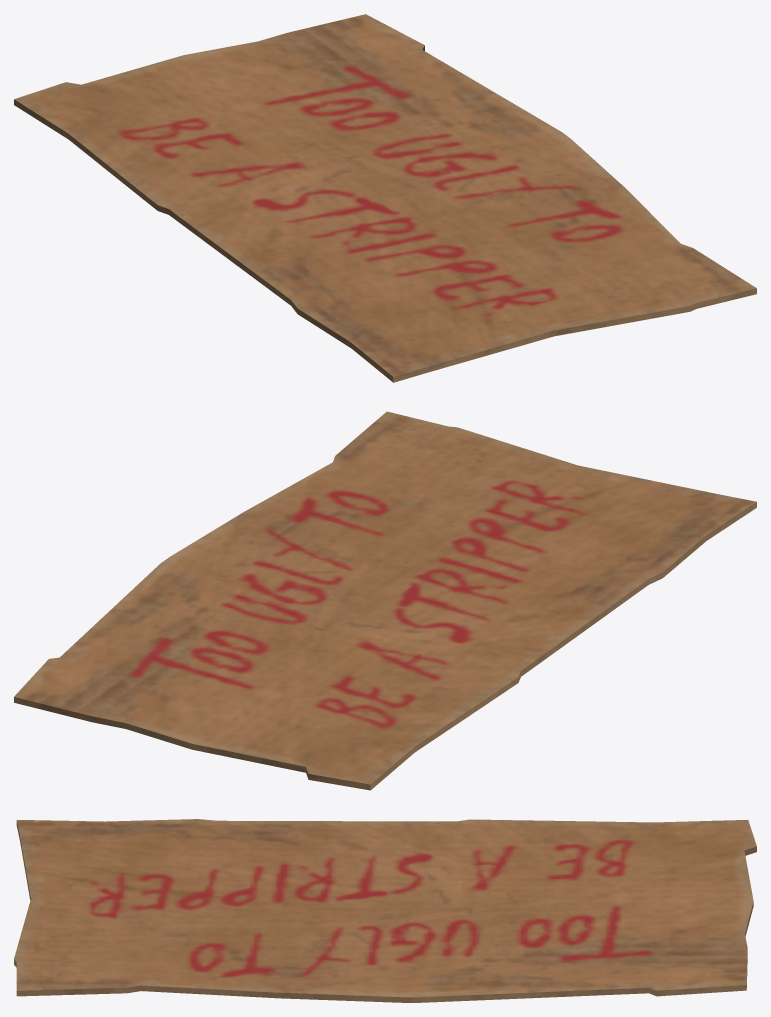
The model's file is MB_Carton_02.fbx.
3 renders of one model, top to bottom at view 1: azimuth 30°, elevation 25°; view 2: azimuth 150°, elevation 25°; view 3: azimuth 270°, elevation 25°, orthographic. The views are drawn at different scales.
Parts seen in each view (by area): view 1: MB_Carton_02; view 2: MB_Carton_02; view 3: MB_Carton_02.
Boxes of the visible parts, bbox=[...] form: MB_Carton_02: bbox=[14, 14, 756, 382]; MB_Carton_02: bbox=[14, 411, 756, 790]; MB_Carton_02: bbox=[14, 819, 756, 1002].
Size of the model in its own units: 43.72 by 0.6445 by 77.01.
